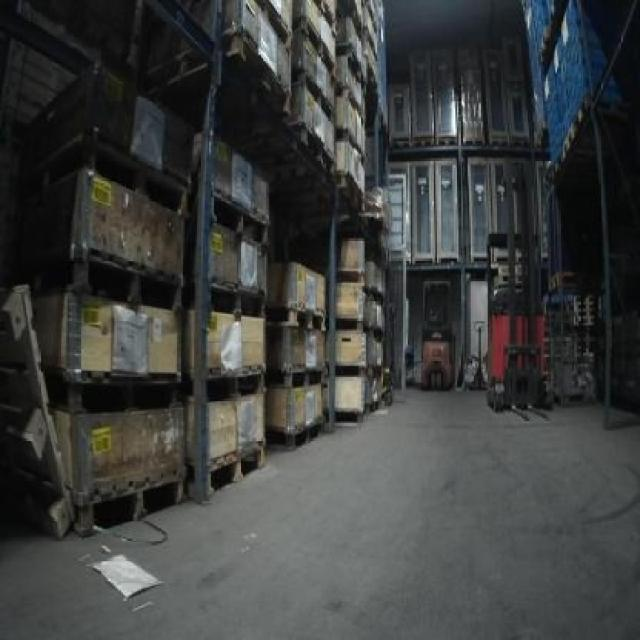floor: (0, 389, 637, 637), (86, 542, 162, 598)
